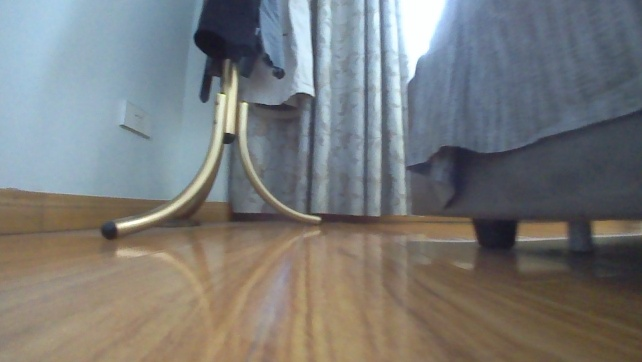bed1: (396, 0, 641, 253)
